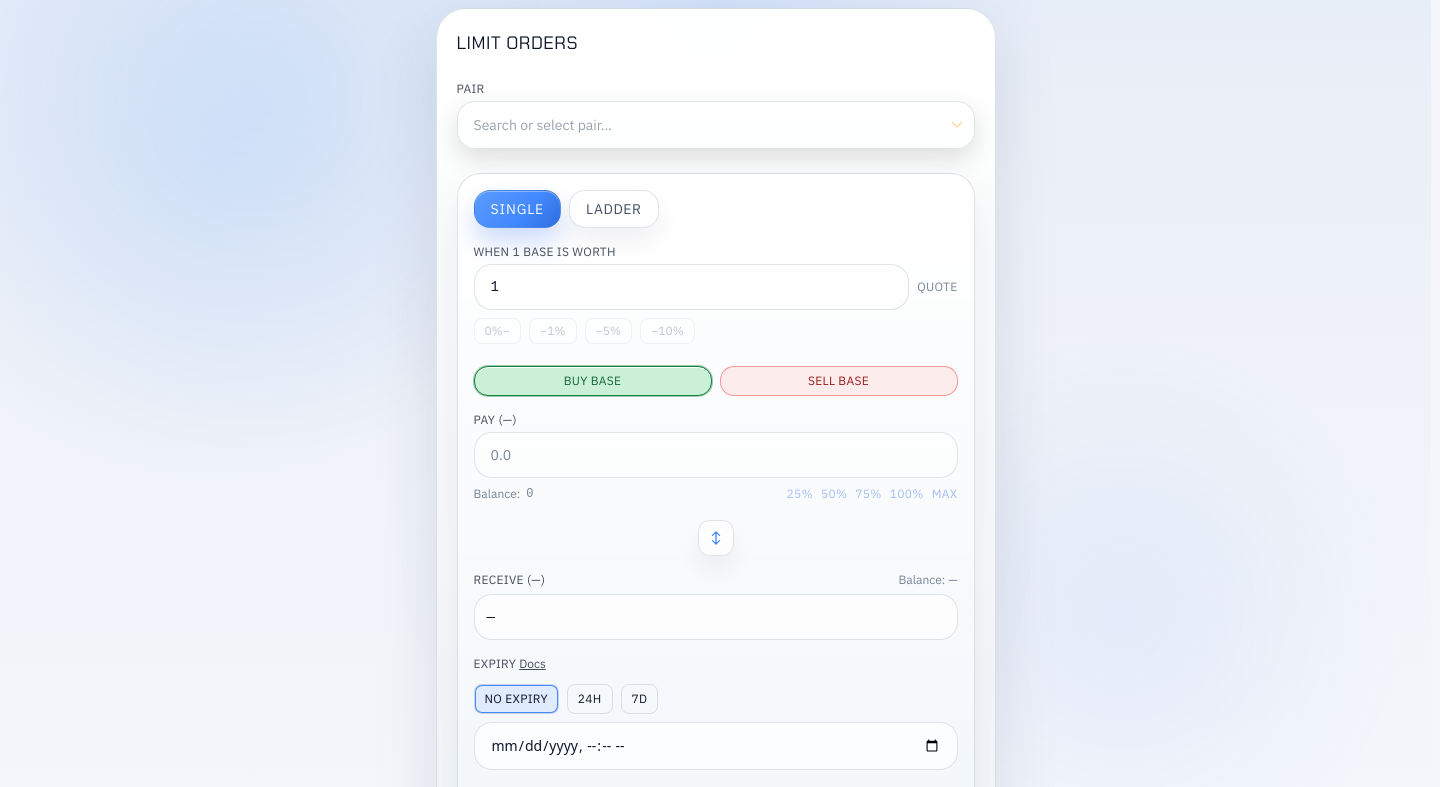
it: LimitOrdersPage › disables book Edit when pair is paused (GitLab #312 / L6)
Click the dropdown named "Trading pair" at (716, 125), box [456,101,974,149]
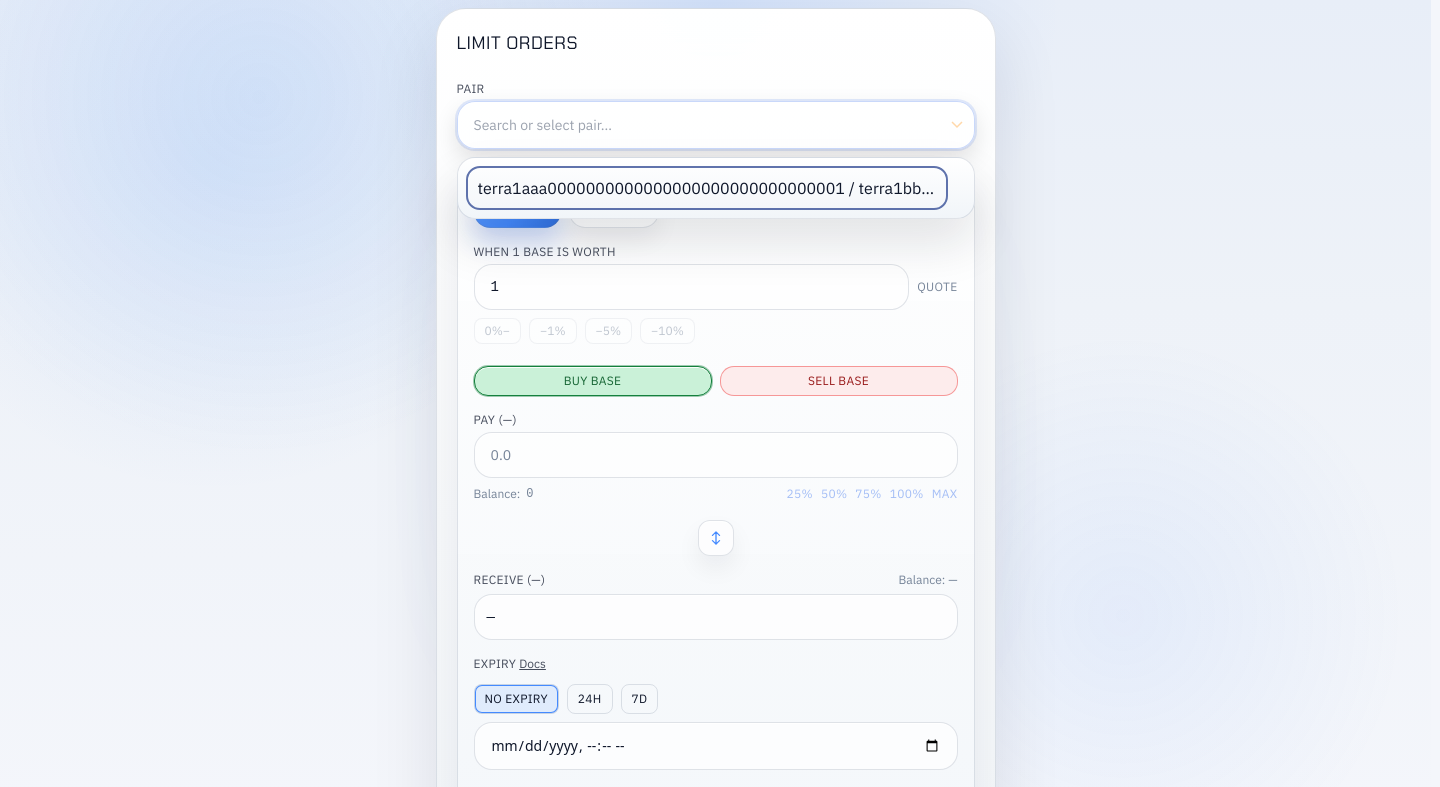
Click the option at (706, 188), box [466,166,948,210]
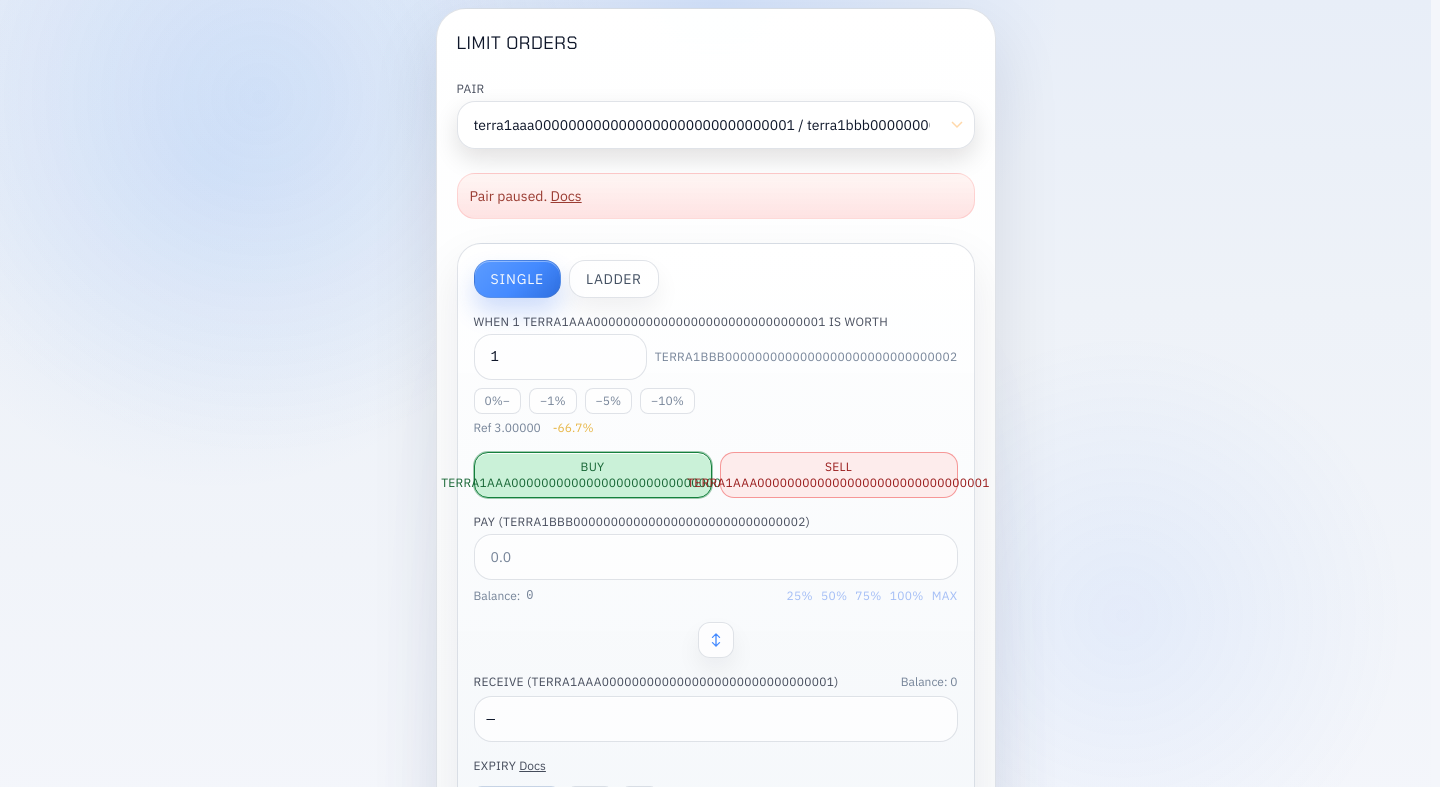
Now the text "Pair paused. Docs" is shown, box [470,187,582,205]
